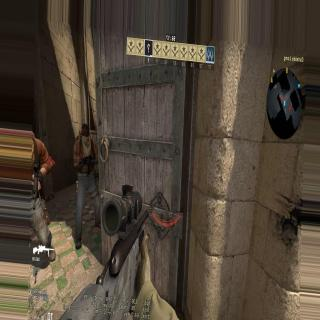T-Body: (32, 128, 57, 264), (72, 120, 96, 235)
T-Head: (81, 122, 90, 142), (79, 128, 82, 136)
